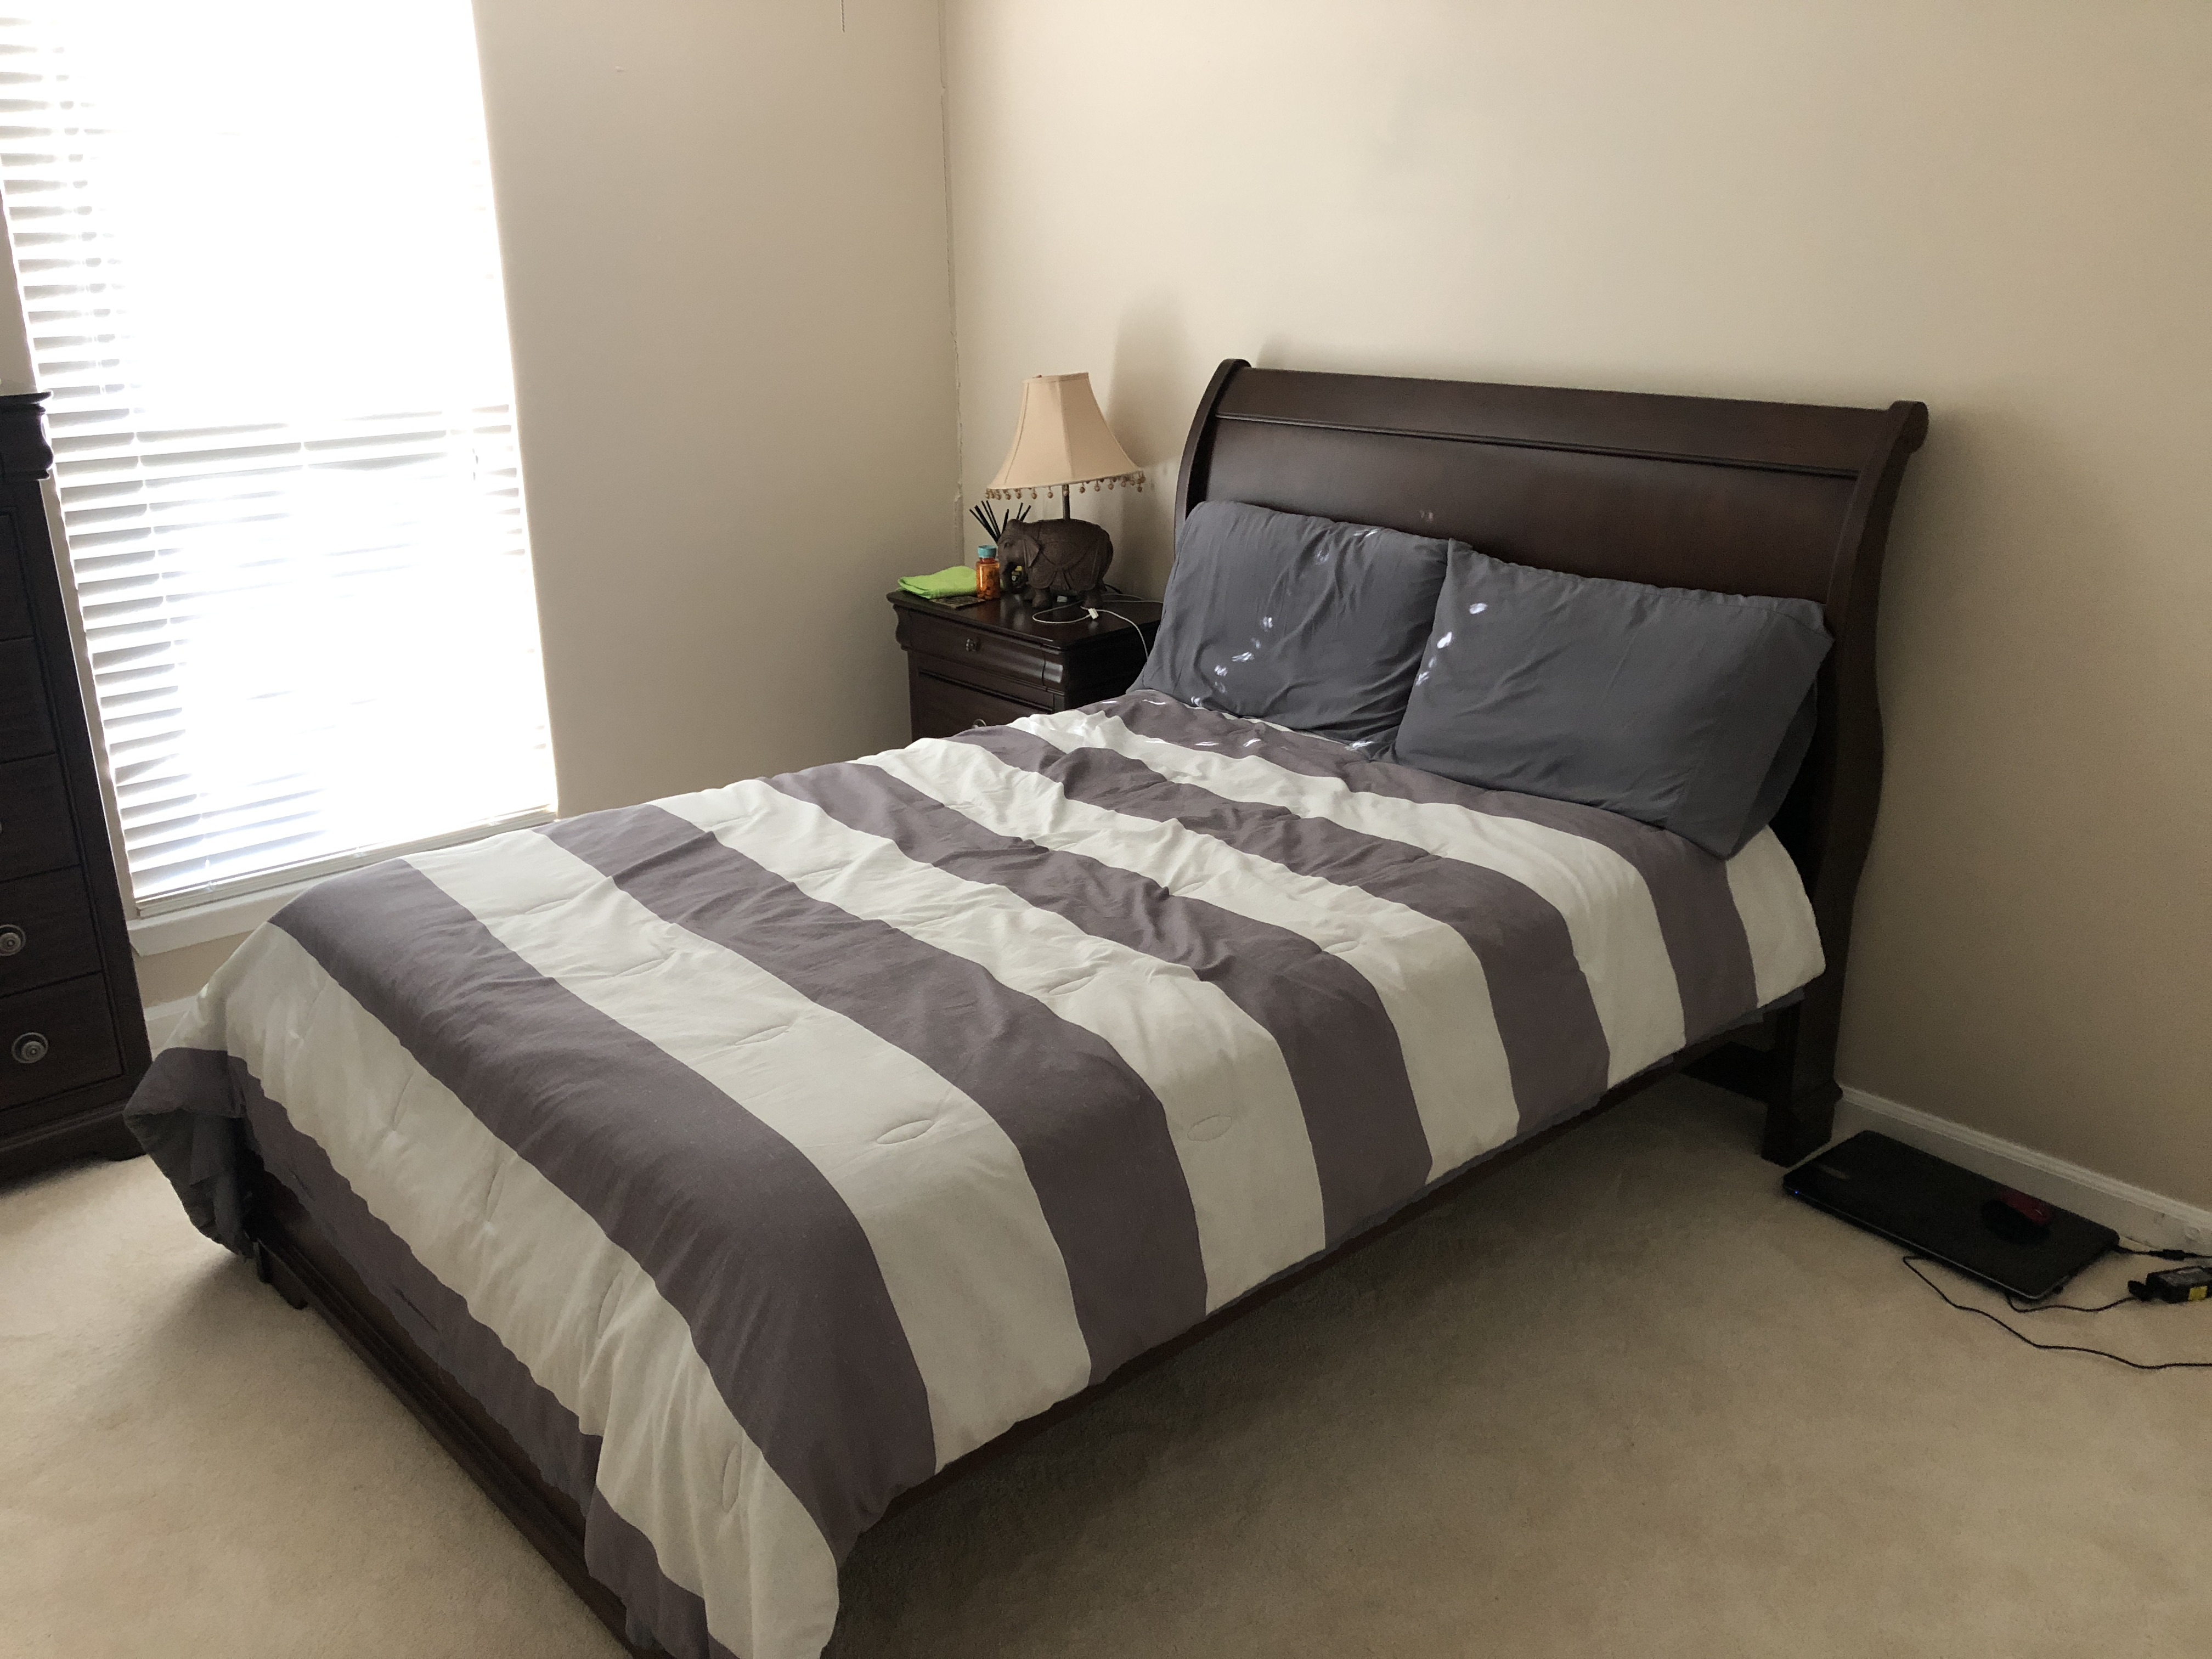bed: (237, 359, 1925, 1624)
